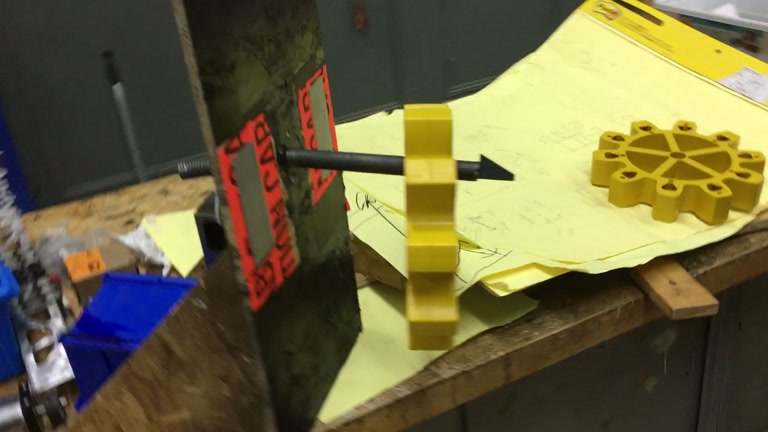gear: (588, 120, 767, 228), (403, 101, 460, 351)
